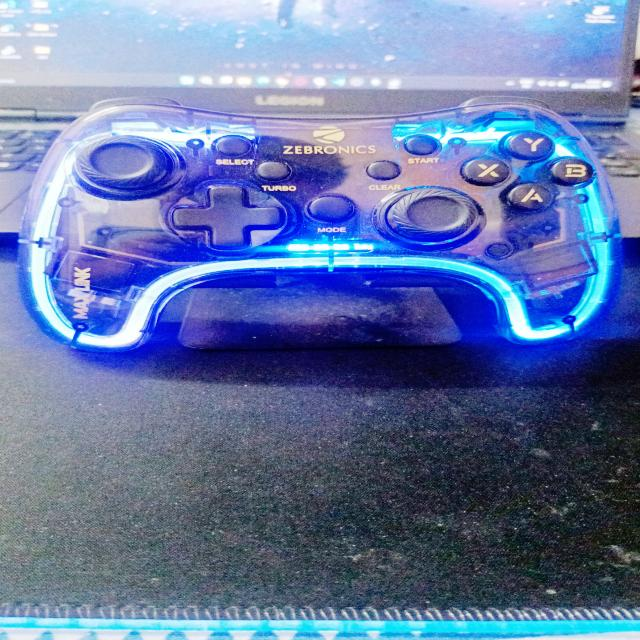gamepad: (16, 95, 624, 353)
